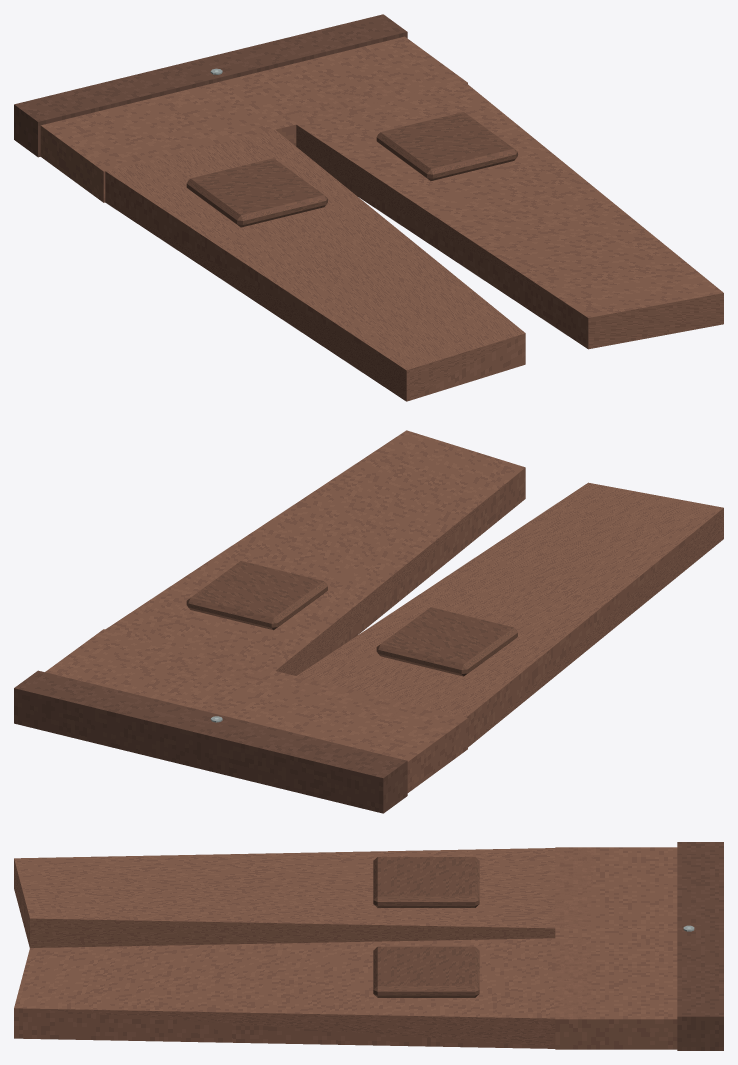
Rendered from pants_tactical.glb.
3 views of the same model, one above another, from view 1: azimuth 30°, elevation 25°; view 2: azimuth 150°, elevation 25°; view 3: azimuth 270°, elevation 25° (orthographic). The views are drawn at different scales.
Parts seen in each view (by area): view 1: block_leg 1, block_leg -1, block_seat, block_waistband, block_cargo pocket -1, block_cargo pocket 1; view 2: block_leg -1, block_leg 1, block_seat, block_waistband, block_cargo pocket -1, block_cargo pocket 1; view 3: block_leg 1, block_leg -1, block_seat, block_waistband, block_cargo pocket 1, block_cargo pocket -1.
Part boxes in pixels (x1,y1,x2,y2): block_leg 1: [280, 70, 723, 349]; block_leg -1: [105, 118, 525, 401]; block_seat: [40, 36, 467, 202]; block_waistband: [14, 14, 407, 157]; block_cargo pocket -1: [186, 158, 327, 227]; block_cargo pocket 1: [376, 112, 517, 180]; block_leg -1: [277, 482, 723, 747]; block_leg 1: [105, 430, 525, 683]; block_seat: [45, 629, 467, 792]; block_waistband: [14, 670, 407, 813]; block_cargo pocket -1: [376, 607, 517, 676]; block_cargo pocket 1: [186, 561, 327, 630]; block_leg 1: [14, 937, 594, 1048]; block_leg -1: [14, 847, 593, 947]; block_seat: [555, 847, 677, 1049]; block_waistband: [677, 842, 723, 1050]; block_cargo pocket 1: [373, 946, 479, 997]; block_cargo pocket -1: [373, 857, 479, 907].
Bounding box in the file's own units: 0.284 × 0.032 × 0.488.
1 material, 1 textured.
